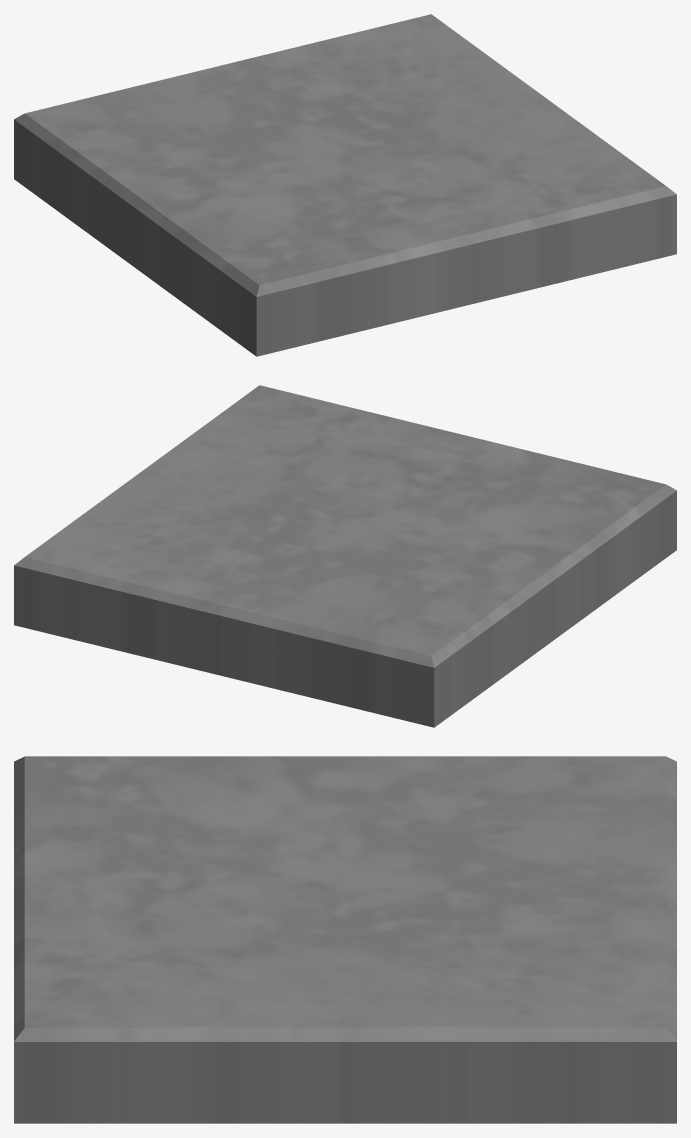
The model's file is large_tile.fbx.
The picture shows the model from 3 angles, top to bottom: view 1: azimuth 30°, elevation 25°; view 2: azimuth 150°, elevation 25°; view 3: azimuth 270°, elevation 25°; orthographic projection. The views are drawn at different scales.
Visible parts, largest first — view 1: pCube24; view 2: pCube24; view 3: pCube24.
Boxes of the visible parts, x1=… form: pCube24: x1=14, y1=14, x2=676, y2=356; pCube24: x1=14, y1=385, x2=676, y2=727; pCube24: x1=14, y1=756, x2=676, y2=1123.
Size of the model in its own units: 39.98 by 6.09 by 39.98.
